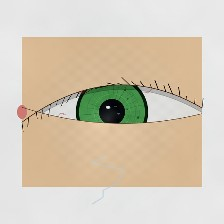foreign_body_visible: (70, 76, 94, 96)
